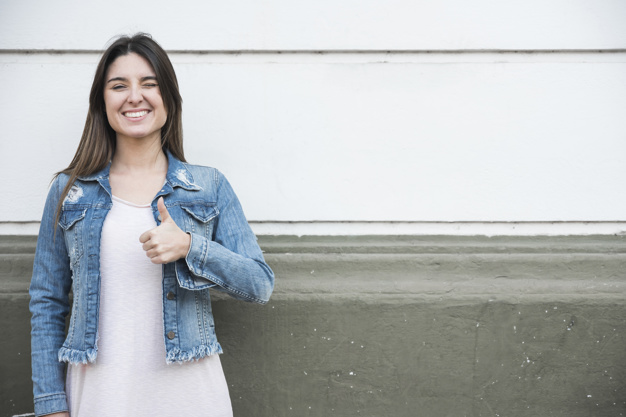thumbsup: (139, 196, 173, 264)
